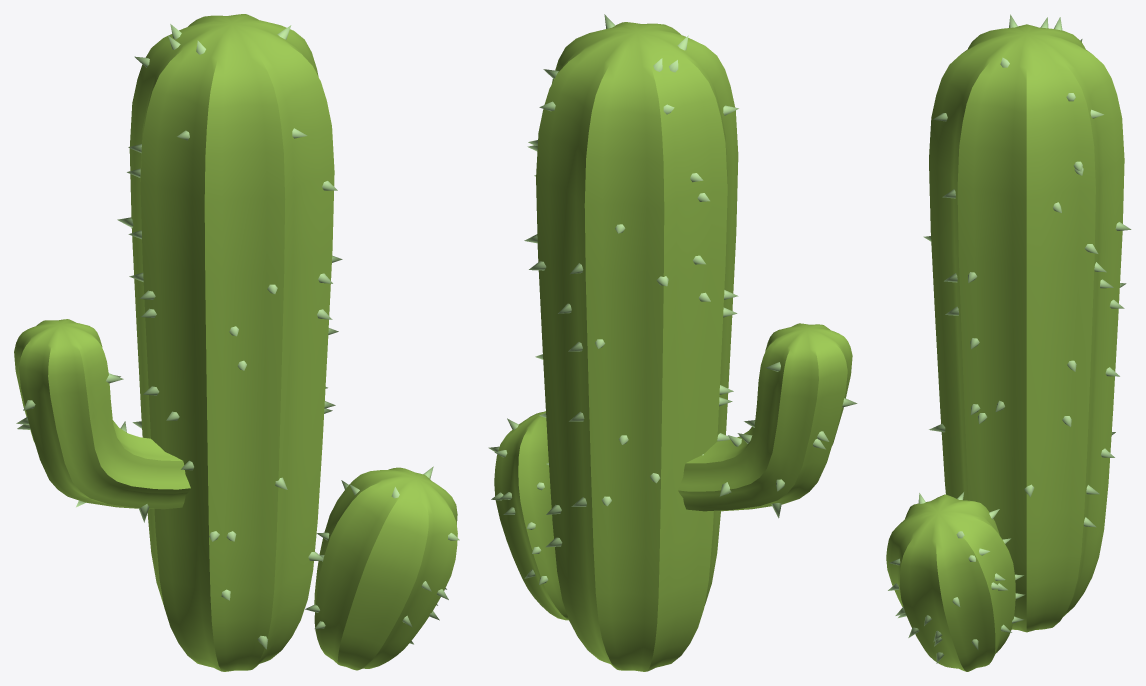
Rendered from Cactus_02.fbx.
The picture shows the model from 3 angles, left to right: view 1: azimuth 30°, elevation 25°; view 2: azimuth 150°, elevation 25°; view 3: azimuth 270°, elevation 25°; orthographic projection. The views are drawn at different scales.
Parts seen in each view (by area): view 1: Cactus_02_Body_01, Cactus_02_Body_02, Cactus_02_Spines; view 2: Cactus_02_Body_01, Cactus_02_Body_02, Cactus_02_Spines; view 3: Cactus_02_Body_01, Cactus_02_Body_02, Cactus_02_Spines.
Boxes of the visible parts, x1,y1,x2,y2 form: Cactus_02_Body_01: (14,14,334,671); Cactus_02_Body_02: (314,467,457,670); Cactus_02_Spines: (16,24,459,649); Cactus_02_Body_01: (536,22,852,671); Cactus_02_Body_02: (494,411,568,620); Cactus_02_Spines: (488,14,857,584); Cactus_02_Body_01: (929,24,1124,632); Cactus_02_Body_02: (886,494,1015,671); Cactus_02_Spines: (888,14,1131,663).
Size of the model in its own units: 2.31 by 3.57 by 1.34.
